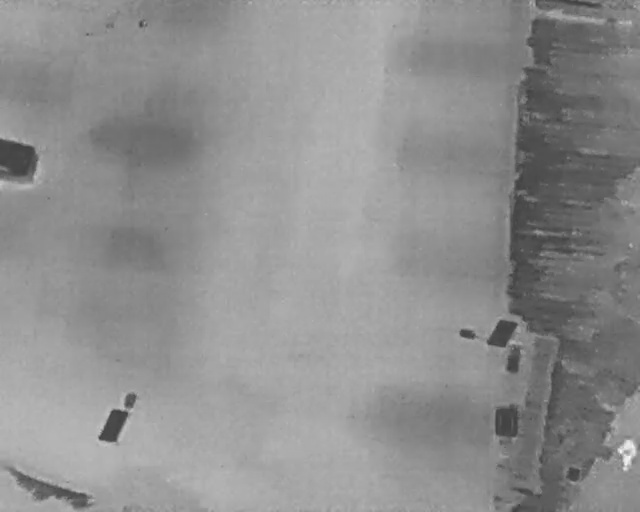Car: (0, 135, 40, 186)
Person: (613, 433, 639, 473)
